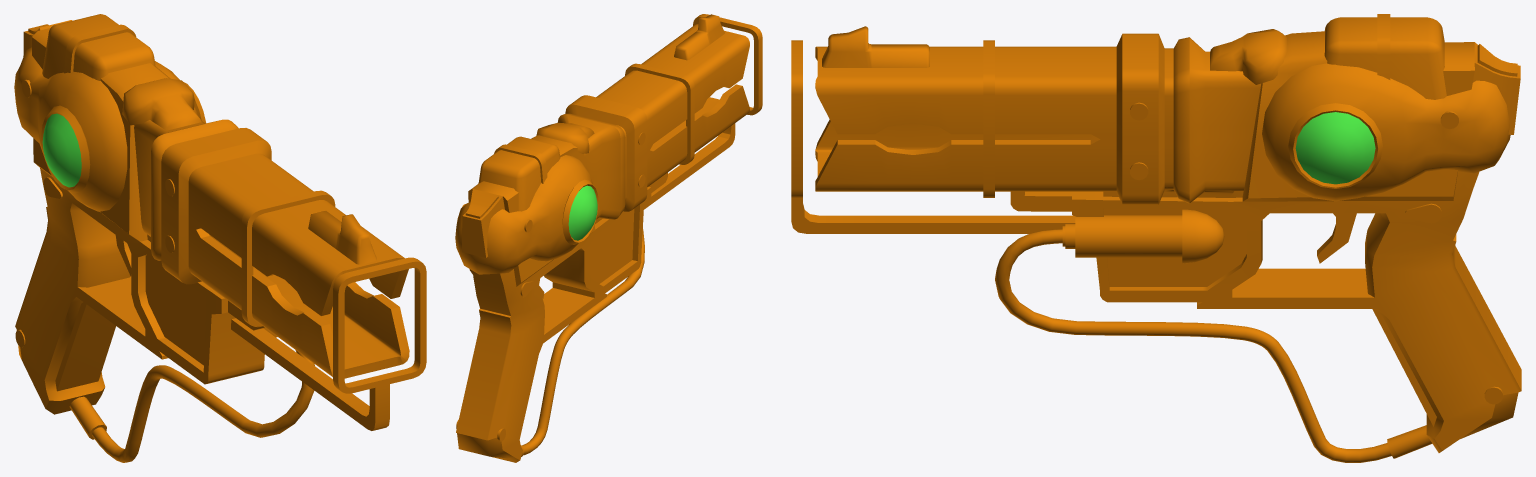
Rendered from Rechargable Gun 2.FBX.
3 views of the same model, side by side, from view 1: azimuth 30°, elevation 25°; view 2: azimuth 150°, elevation 25°; view 3: azimuth 270°, elevation 25° (orthographic). The views are drawn at different scales.
Parts seen in each view (by area): view 1: prop_lasergun; view 2: prop_lasergun; view 3: prop_lasergun, prop_trigger_lasergun.
Part boxes in pixels (x1,y1,x2,y2): prop_lasergun: (14,14,426,462); prop_lasergun: (455,14,762,462); prop_lasergun: (791,14,1521,462); prop_trigger_lasergun: (1317,213,1356,263).
Size of the model in its own units: 0.0785 by 0.2064 by 0.313.
